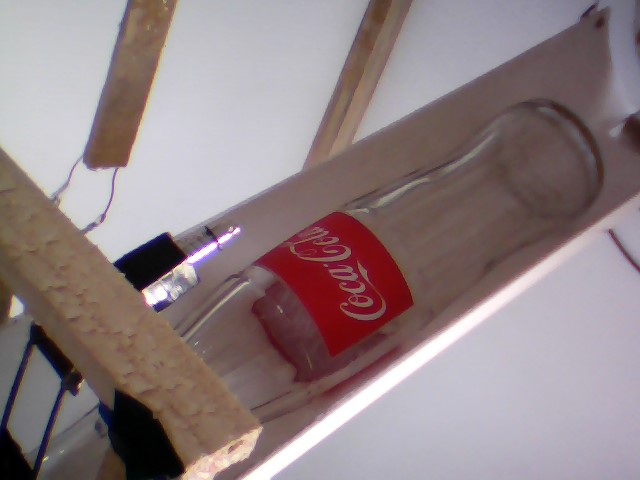vidrio: (164, 94, 610, 418)
